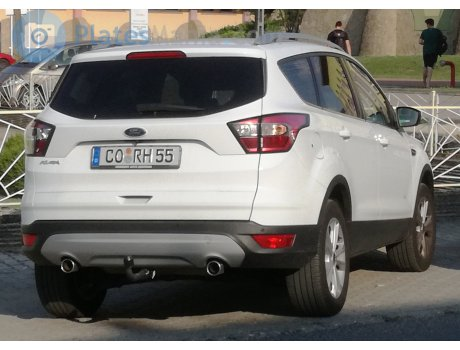License Plates: (99, 146, 178, 162)
